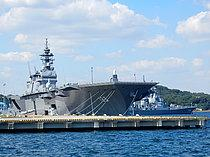MIL_Ship: (4, 36, 160, 115)
